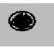correct: (8, 9, 38, 32)
